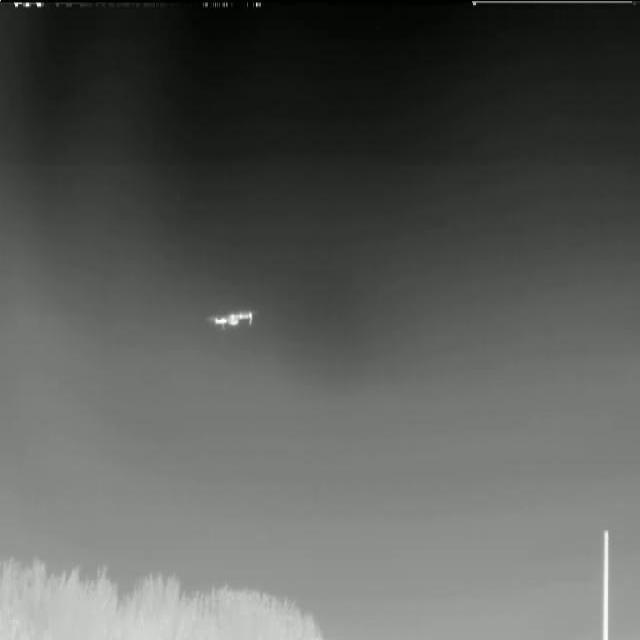DRONE: (199, 300, 264, 346)
